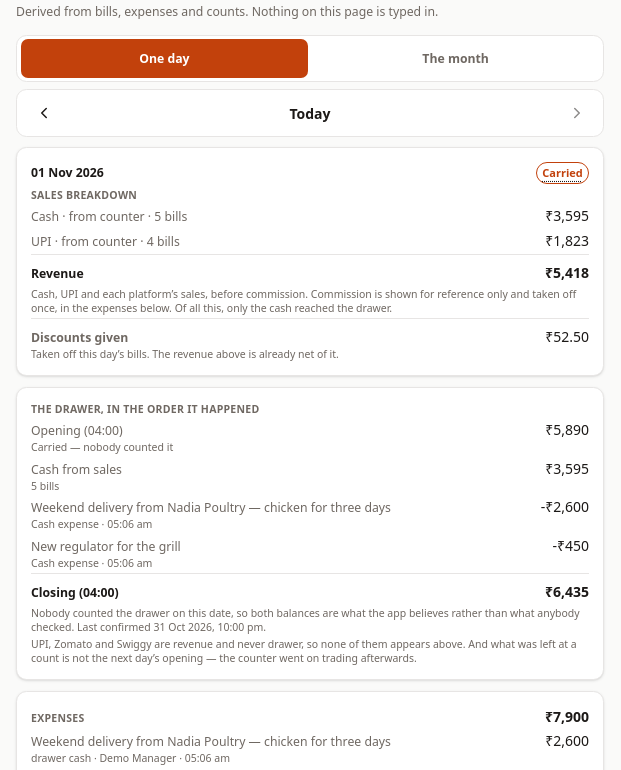
it: the Ledger’s current month carries P&L (Pro-rata) and the Fixed chip, or reads as before
This screenshot has width=621, height=770.
Expected: the element with test id "ledger-revenue" is shown, [16,147,604,376]
What coordinates should you click on to do the following:
click the button "The month"
I would click on:
 (456, 59)
Its box is [312,39,600,78].
(page scrolled)
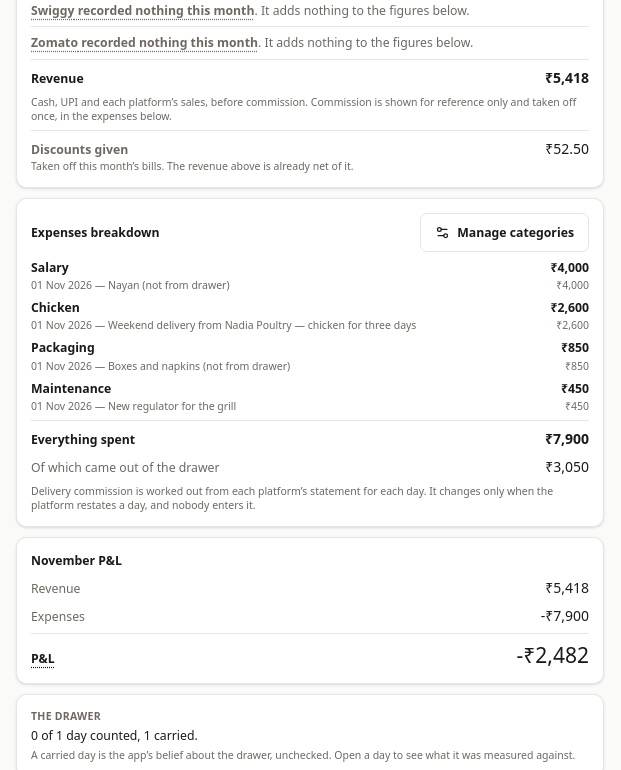
Expected: the element with test id "month-profit" is shown, [16,537,604,684]
